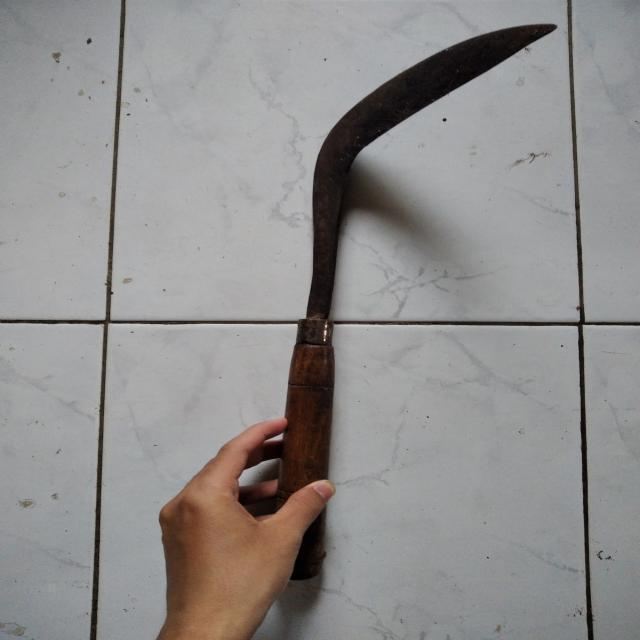Knife: (272, 23, 562, 574)
